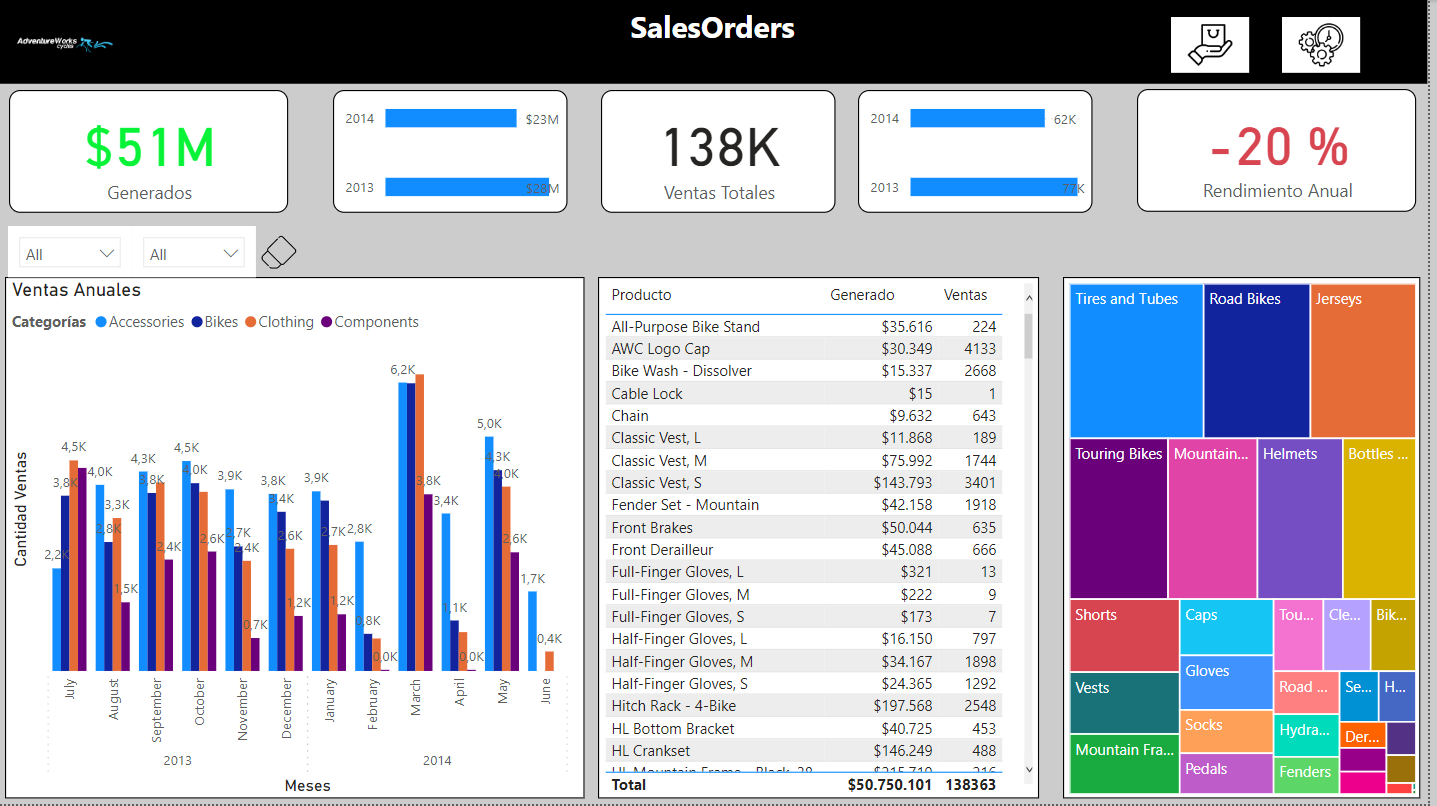

What the dashboard file says about the page in this screenshot:
{"tool":"powerbi","page":{"name":"SalesOrder","canvas":[1280,720],"ordinal":2},"visuals":[{"type":"textbox","box":[0,0,1279.7,75],"z":0},{"type":"clusteredColumnChart","title":"Ventas Anuales","fields":{"Y":["Sum(SalesOrder.Quantity)"],"Series":["SalesOrder.Category.Name"],"Category":["Calendar.SalesDate.Variation.Date Hierarchy.Year","Calendar.SalesDate.Variation.Date Hierarchy.Month"]},"box":[6.7,248.1,519.3,466.6],"z":1000},{"type":"image","box":[0,0,120,80],"z":2000},{"type":"card","fields":{"Values":["Total.PriceSales"]},"box":[10,80.5,250,110],"z":3000},{"type":"barChart","fields":{"Category":["Calendar.SalesDate.Variation.Date Hierarchy.Year"],"Y":["Sum(SalesOrder.TotalPrice)"]},"box":[299.9,80.5,210,110.2],"z":4000},{"type":"card","fields":{"Values":["Total.ProductSales"]},"box":[540,80.5,210,110],"z":5000},{"type":"barChart","fields":{"Category":["Calendar.SalesDate.Variation.Date Hierarchy.Year"],"Y":["Sum(SalesOrder.Quantity)"]},"box":[770,80.5,209.8,110.2],"z":6000},{"type":"tableEx","fields":{"Values":["SalesOrder.Name","Sum(SalesOrder.TotalPrice)","Sum(SalesOrder.Quantity)"]},"box":[537.5,248.1,394.7,466.6],"z":7000},{"type":"card","fields":{"Values":["Total.Measure"]},"box":[1020,79.5,250.1,110.2],"z":8000},{"type":"image","box":[1050.4,15,69.9,50.1],"z":9000},{"type":"image","box":[1150,15,69.9,50.1],"z":10000},{"type":"slicer","fields":{"Values":["Calendar.SalesDate.Variation.Date Hierarchy.Month"]},"box":[119.8,202.2,111.1,46],"z":11000},{"type":"slicer","fields":{"Values":["Calendar.SalesDate.Variation.Date Hierarchy.Year"]},"box":[8.6,202.2,111.1,46],"z":12000},{"type":"treemap","fields":{"Group":["SalesOrder.SubCategory.Name"],"Values":["Sum(SalesOrder.Quantity)"]},"box":[953.3,248.1,320,466.6],"z":13000},{"type":"image","box":[231,202.4,41.2,45.7],"z":13001}]}

Visuals, with their boxes in screenshot pixels (x1, y1, x2, y2), scaled from the page's 1280x720 canvas onto the 1437x806 screenshot:
textbox: 0/0/1436/84
"Ventas Anuales" clusteredColumnChart: 8/278/591/800
image: 0/0/135/90
card - Total.PriceSales: 11/90/292/213
barChart - Calendar.SalesDate.Variation.Date Hierarchy.Year x Sum(SalesOrder.TotalPrice): 337/90/572/213
card - Total.ProductSales: 606/90/842/213
barChart - Calendar.SalesDate.Variation.Date Hierarchy.Year x Sum(SalesOrder.Quantity): 864/90/1100/213
tableEx - SalesOrder.Name x Sum(SalesOrder.TotalPrice): 603/278/1047/800
card - Total.Measure: 1145/89/1426/212
image: 1179/17/1258/73
image: 1291/17/1370/73
slicer - Calendar.SalesDate.Variation.Date Hierarchy.Month: 134/226/259/278
slicer - Calendar.SalesDate.Variation.Date Hierarchy.Year: 10/226/134/278
treemap - SalesOrder.SubCategory.Name x Sum(SalesOrder.Quantity): 1070/278/1429/800
image: 259/227/306/278
